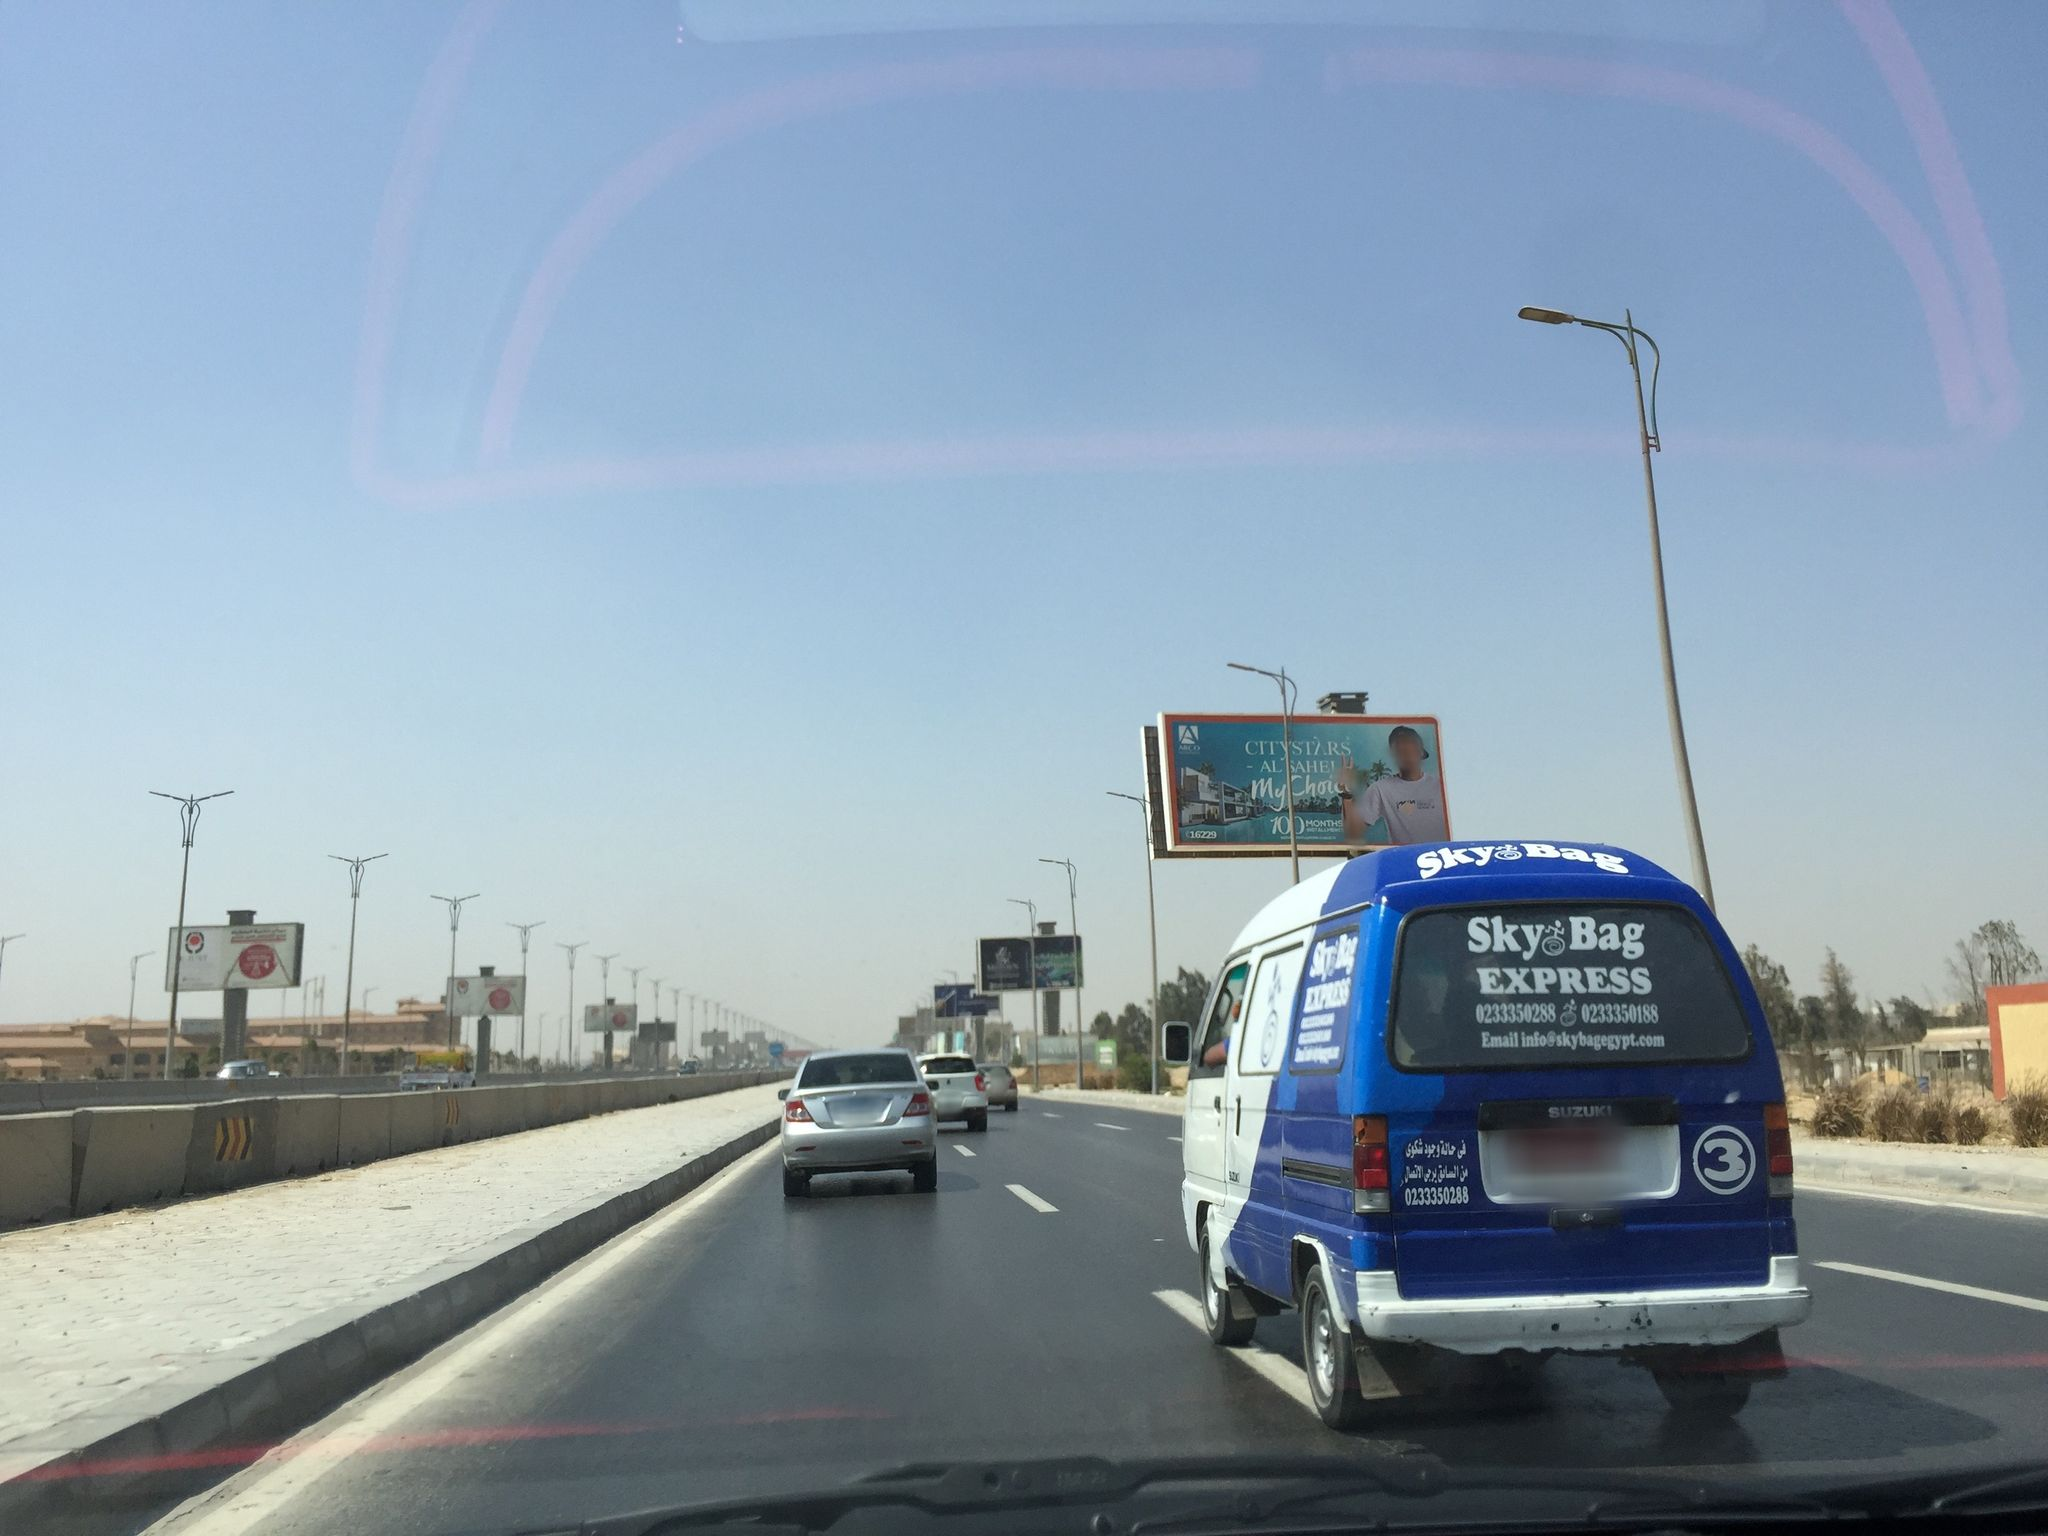car: (1156, 837, 1811, 1434), (776, 1046, 939, 1197), (913, 1050, 989, 1133), (976, 1062, 1018, 1112)
truck: (397, 1050, 476, 1091)
